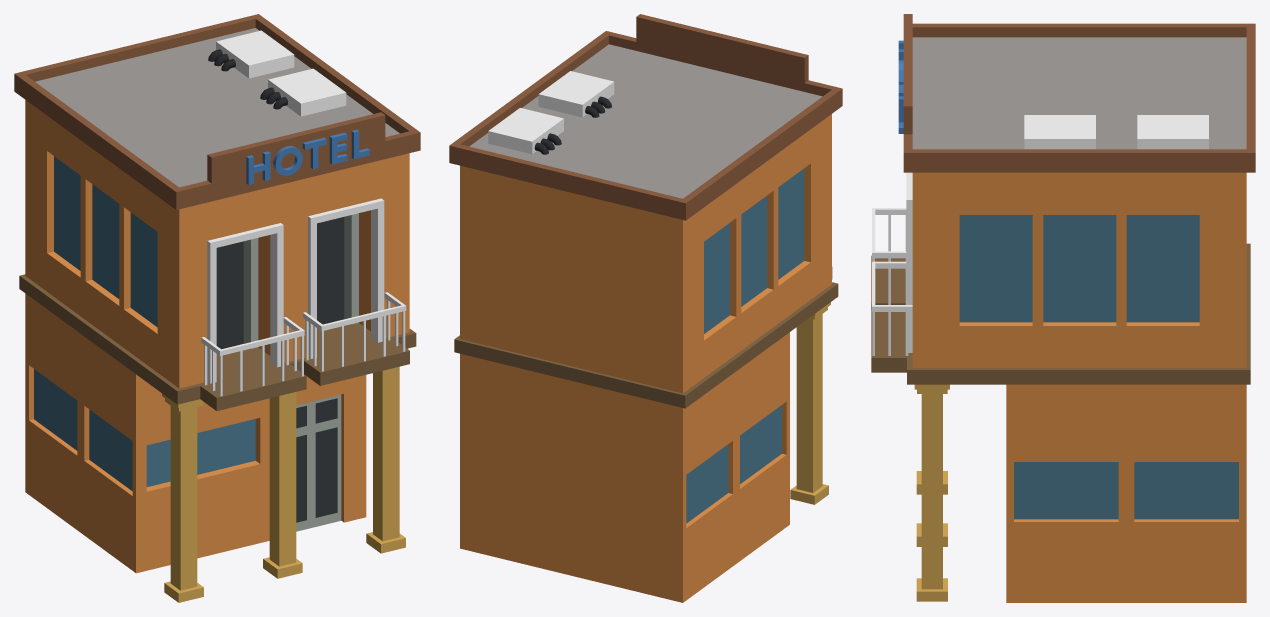
The model's file is Hotel_1.fbx.
3 renders of one model, left to right at view 1: azimuth 30°, elevation 25°; view 2: azimuth 150°, elevation 25°; view 3: azimuth 270°, elevation 25°, orthographic. The views are drawn at different scales.
Parts seen in each view (by area): view 1: Hotel_1; view 2: Hotel_1; view 3: Hotel_1.
Part boxes in pixels (left/top/right/bottom): Hotel_1: left=14, top=14, right=420, bottom=602; Hotel_1: left=449, top=14, right=842, bottom=602; Hotel_1: left=871, top=14, right=1255, bottom=602.
Bounding box in the file's own units: 713 × 1236 × 893.
